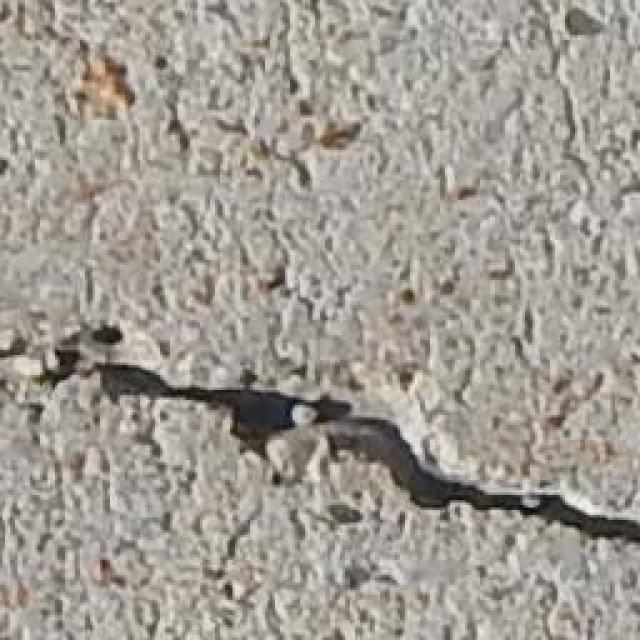concrete-crack: (3, 314, 640, 554)
